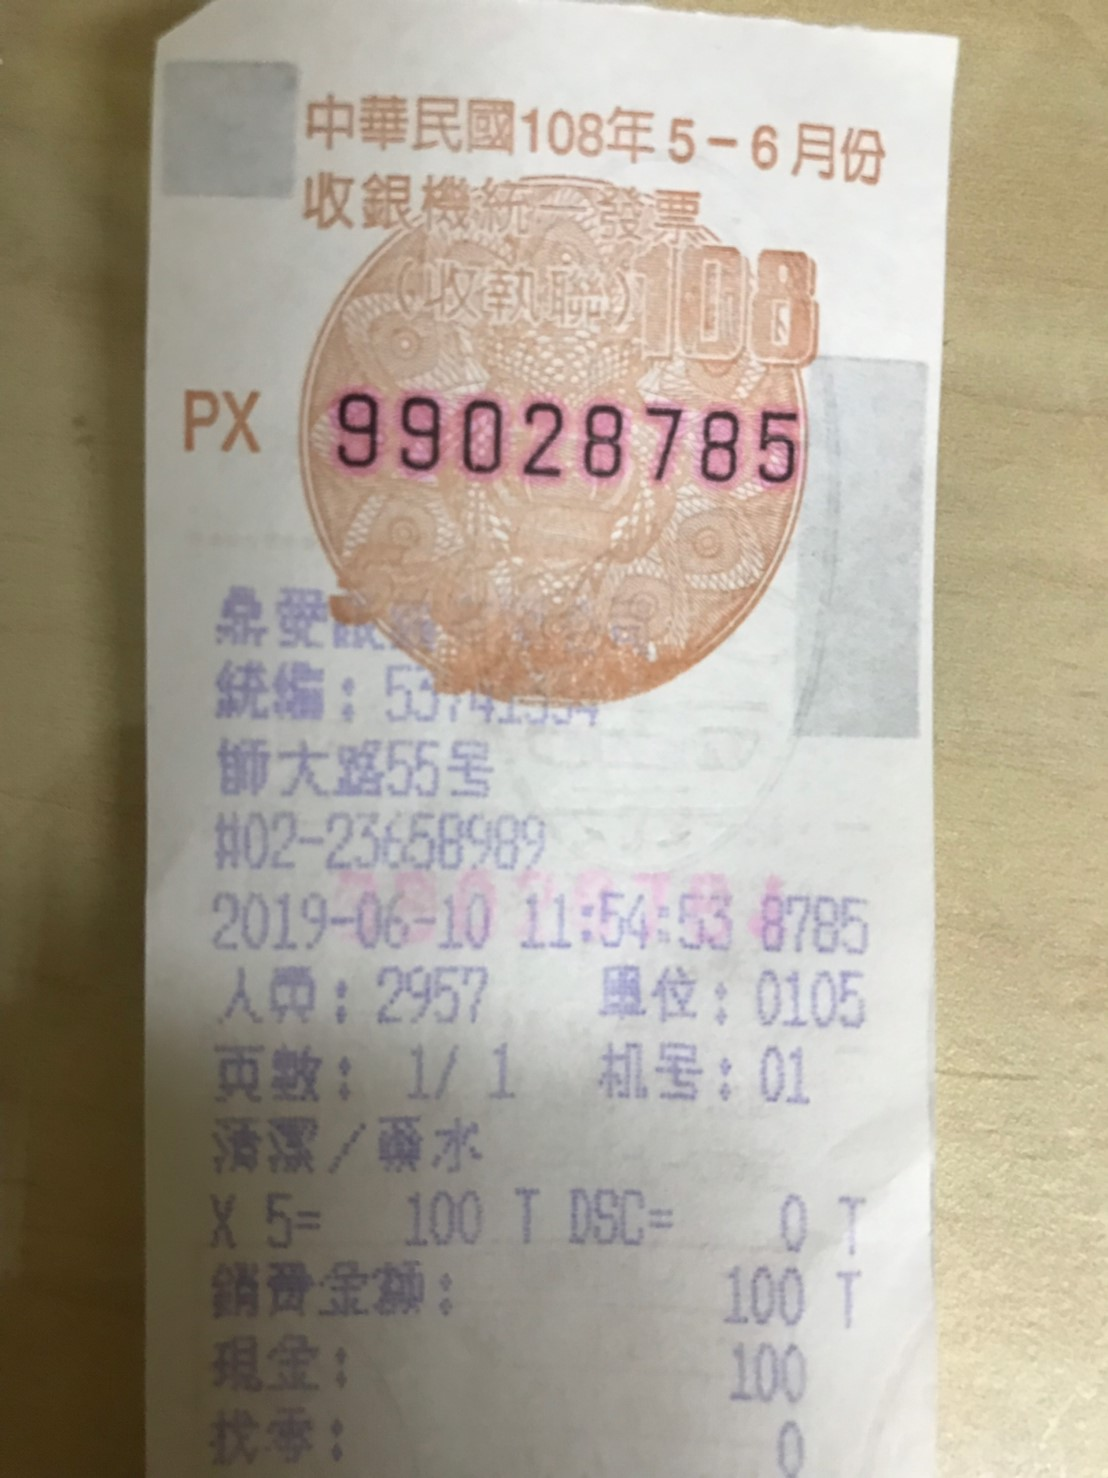Date_Old: (521, 91, 887, 196)
Number_Old: (324, 376, 800, 492)
